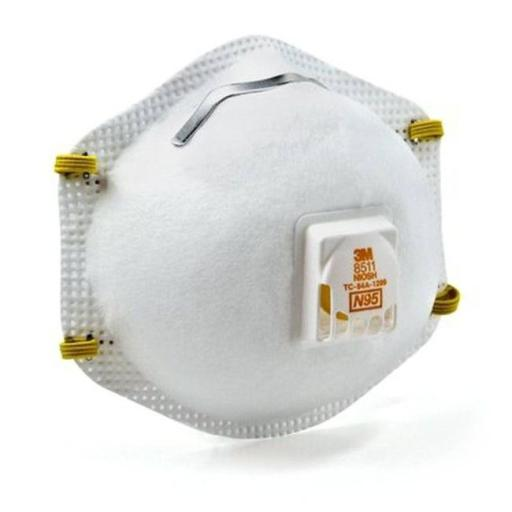mask: (36, 33, 480, 458)
